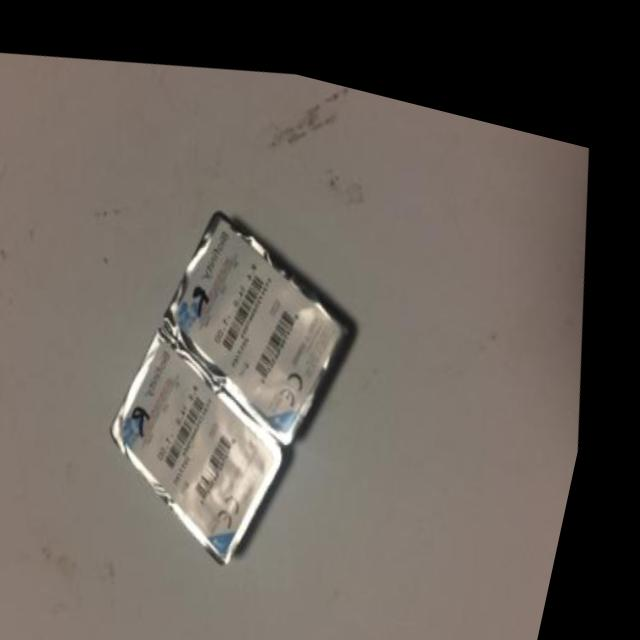trash: (54, 109, 467, 623)
